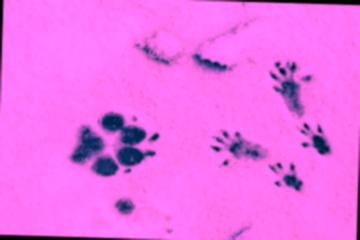ecureuil: (208, 118, 270, 170), (265, 56, 317, 118), (297, 117, 338, 156), (270, 155, 309, 191)
